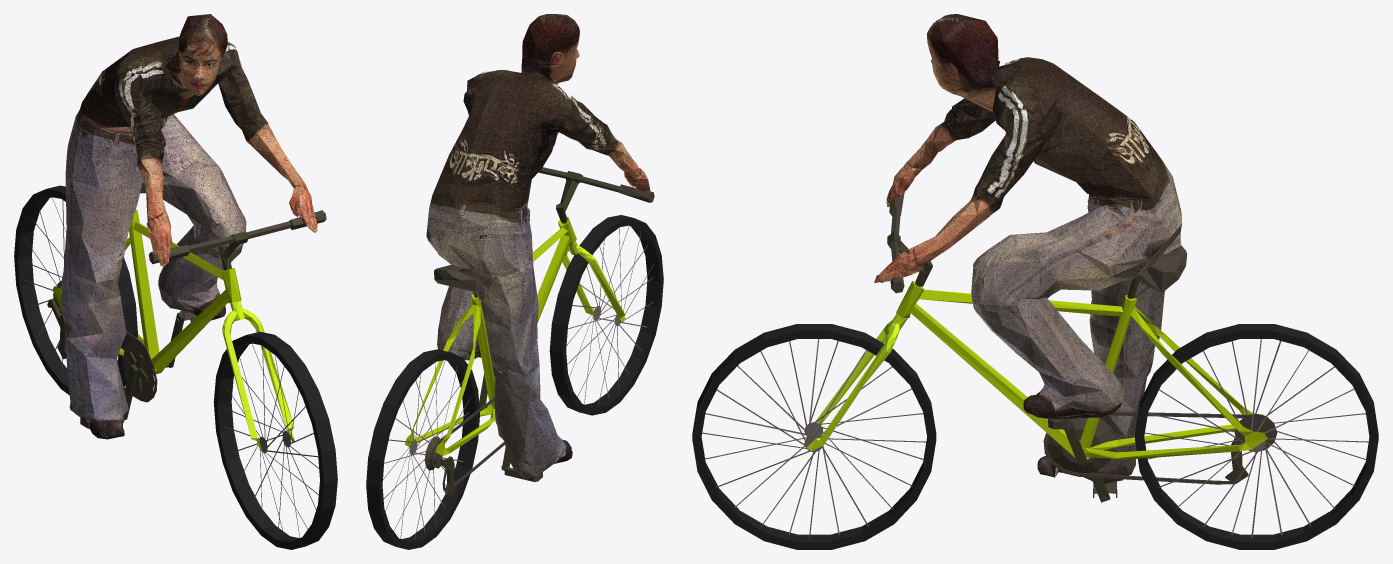
File: bicycle_female_1.obj
3 renders of one model, left to right at view 1: azimuth 30°, elevation 25°; view 2: azimuth 150°, elevation 25°; view 3: azimuth 270°, elevation 25°, orthographic. The views are drawn at different scales.
Parts seen in each view (by area): view 1: StaticModelFinal, TIRE1, TREK_CUADRO1, SPOKES1, TREK_HORQUILLA1, TREK_SILLIN1, TREK_CROMO1, TREK_NEGRO_BRILL1; view 2: StaticModelFinal, TIRE1, TREK_CUADRO1, SPOKES1, TREK_SILLIN1, TREK_CROMO1, TREK_HORQUILLA1, TREK_NEGRO_BRILL1; view 3: StaticModelFinal, TIRE1, TREK_CUADRO1, SPOKES1, TREK_SILLIN1, TREK_HORQUILLA1, TREK_CROMO1.
Boxes of the visible parts, x1,y1,x2,y2 form: StaticModelFinal: (61, 14, 317, 439); TIRE1: (14, 185, 337, 549); TREK_CUADRO1: (52, 210, 241, 374); SPOKES1: (24, 197, 318, 538); TREK_HORQUILLA1: (222, 301, 294, 450); TREK_SILLIN1: (53, 182, 326, 428); TREK_CROMO1: (47, 231, 248, 419); TREK_NEGRO_BRILL1: (187, 221, 291, 252); StaticModelFinal: (426, 14, 650, 479); TIRE1: (366, 215, 663, 549); TREK_CUADRO1: (404, 217, 576, 455); SPOKES1: (383, 225, 653, 539); TREK_SILLIN1: (424, 184, 654, 490); TREK_CROMO1: (435, 171, 582, 496); TREK_HORQUILLA1: (562, 241, 625, 322); TREK_NEGRO_BRILL1: (538, 167, 630, 193); StaticModelFinal: (874, 14, 1181, 483); TIRE1: (692, 324, 1378, 549); TREK_CUADRO1: (896, 281, 1267, 459); SPOKES1: (702, 339, 1369, 538); TREK_SILLIN1: (889, 193, 1277, 499); TREK_HORQUILLA1: (806, 314, 907, 450); TREK_CROMO1: (887, 232, 1248, 502).
Bounding box in the file's own units: 0.566 × 1.49 × 1.76.
Materials: 8 (1 with a texture image).
